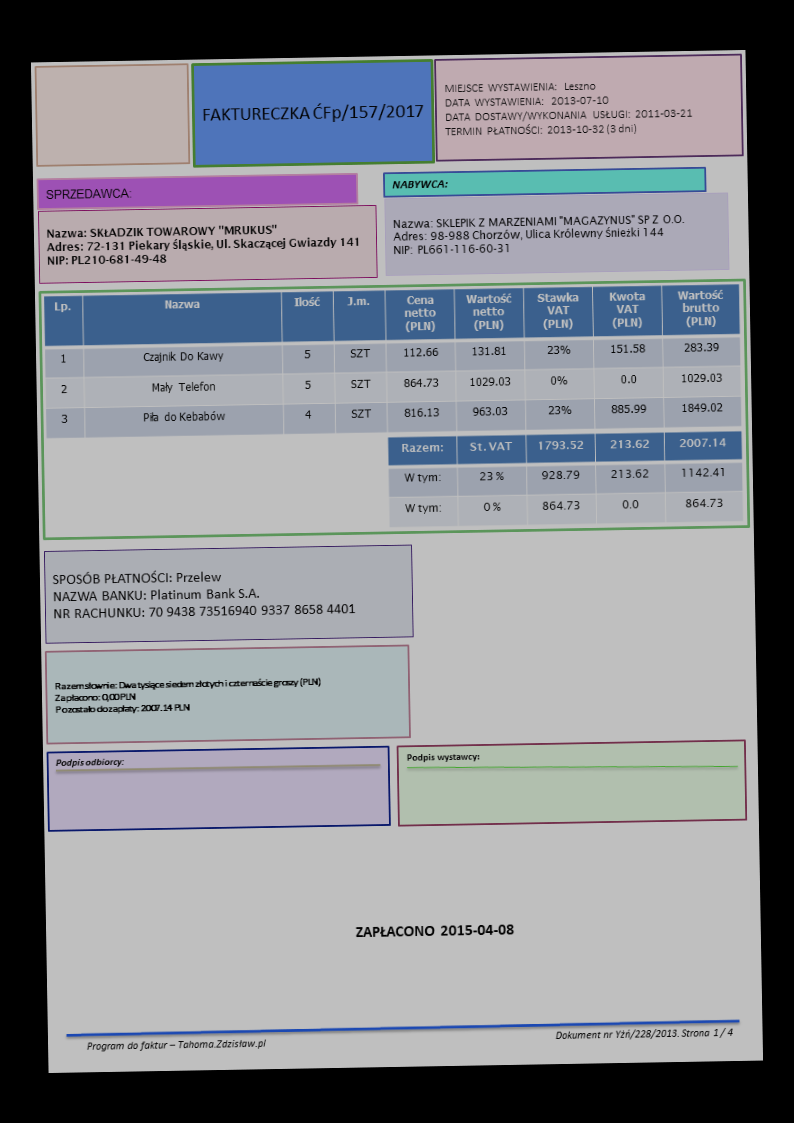Table: (41, 281, 740, 437), (385, 428, 746, 528)
TextBox: (47, 563, 359, 624), (438, 75, 697, 143), (43, 216, 361, 271), (388, 208, 688, 260), (52, 672, 327, 717), (194, 94, 426, 128), (80, 1030, 269, 1058), (347, 916, 518, 943), (553, 1024, 739, 1044), (40, 183, 133, 202), (52, 751, 127, 773), (398, 748, 482, 766), (388, 175, 448, 194)
